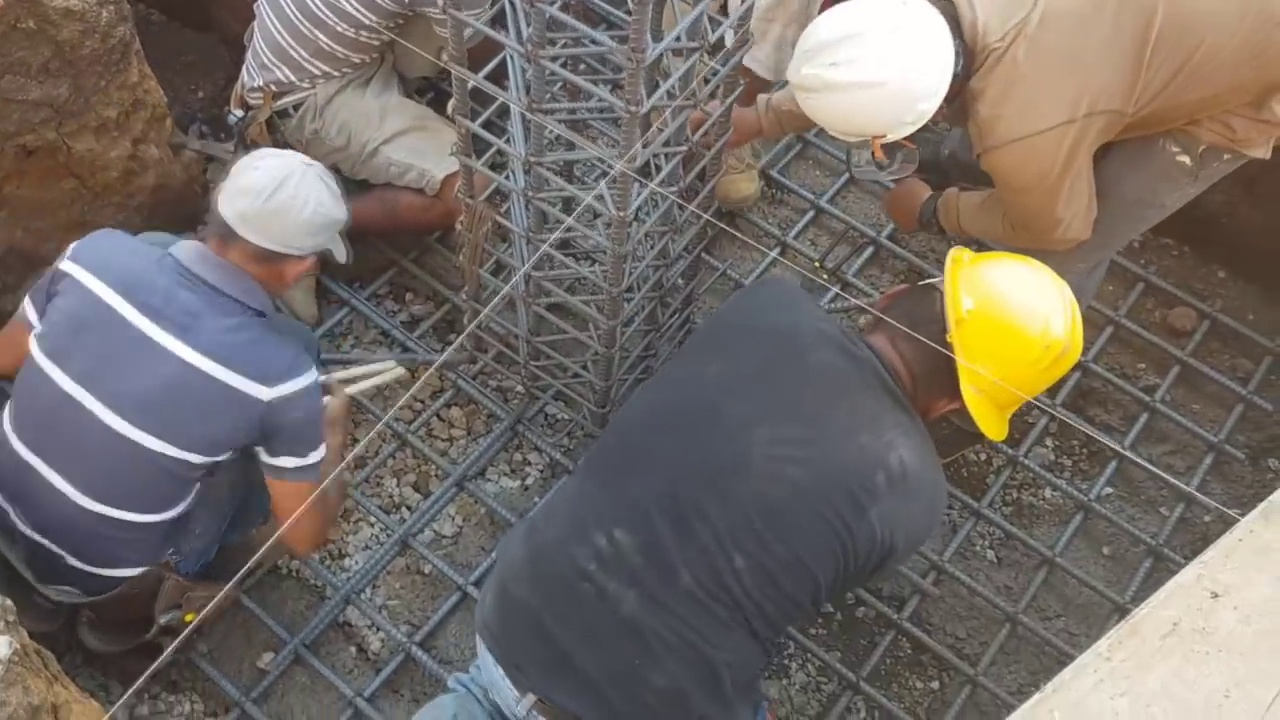helmet: (944, 245, 1086, 440), (785, 0, 945, 156)
helmet-off: (196, 143, 356, 311)
helmet-on: (852, 241, 1100, 434), (777, 3, 984, 155)
person: (410, 243, 1100, 720), (14, 148, 378, 629), (777, 2, 1279, 246), (209, 0, 512, 291), (604, 0, 788, 209)
